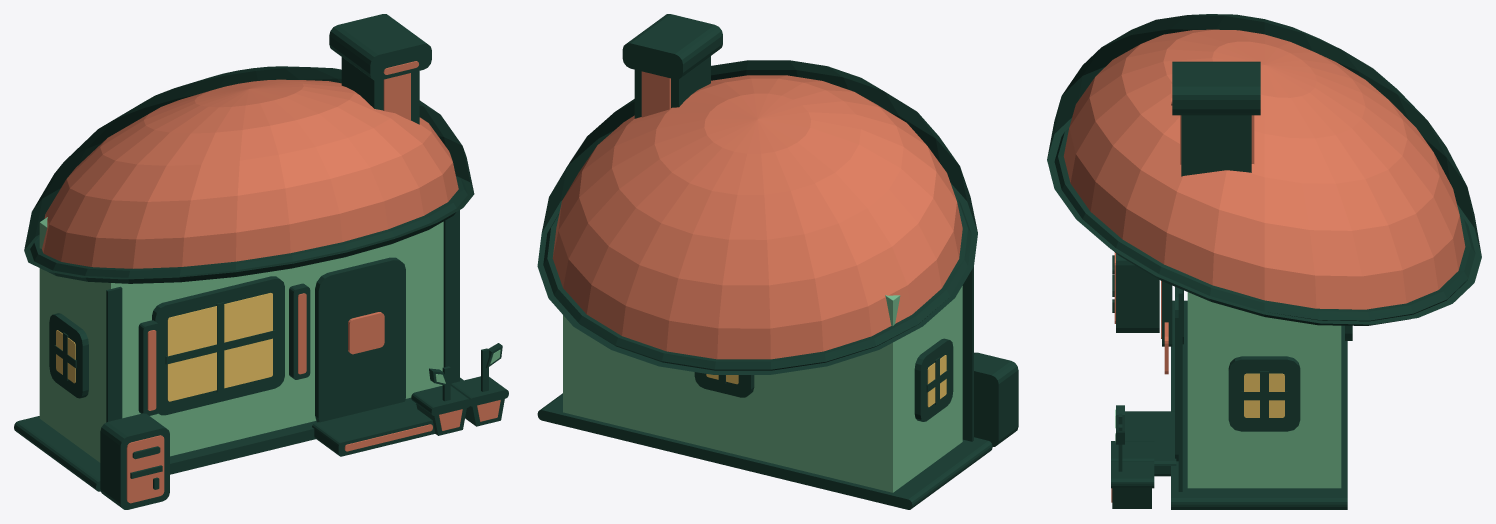
3 views of the same model, side by side, from view 1: azimuth 30°, elevation 25°; view 2: azimuth 150°, elevation 25°; view 3: azimuth 270°, elevation 25° (orthographic). The views are drawn at different scales.
Visible parts, largest first — view 1: Rent Free house; view 2: Rent Free house; view 3: Rent Free house.
Boxes of the visible parts, box(x1,y1,x2,y2) form: Rent Free house: box(14, 14, 508, 509); Rent Free house: box(537, 14, 1018, 509); Rent Free house: box(1047, 14, 1481, 509).
Size of the model in its own units: 1.12 by 0.9771 by 0.9714.
